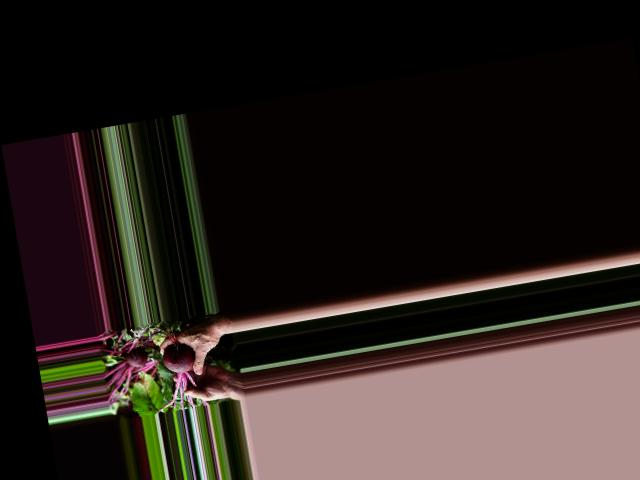beet: (143, 340, 205, 414)
